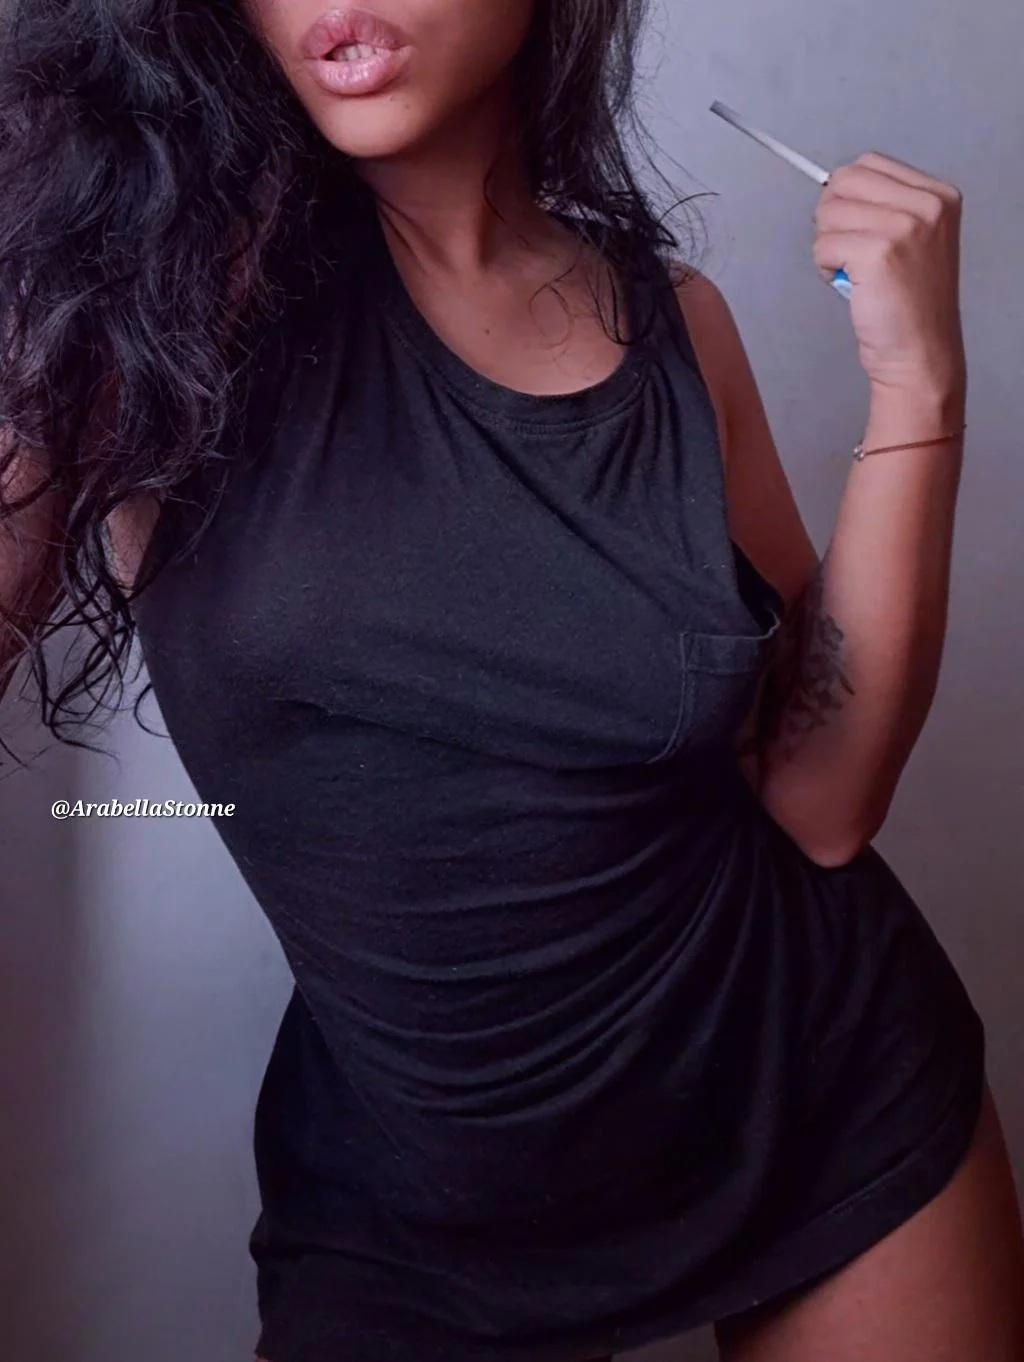cigarette: (710, 101, 830, 185)
